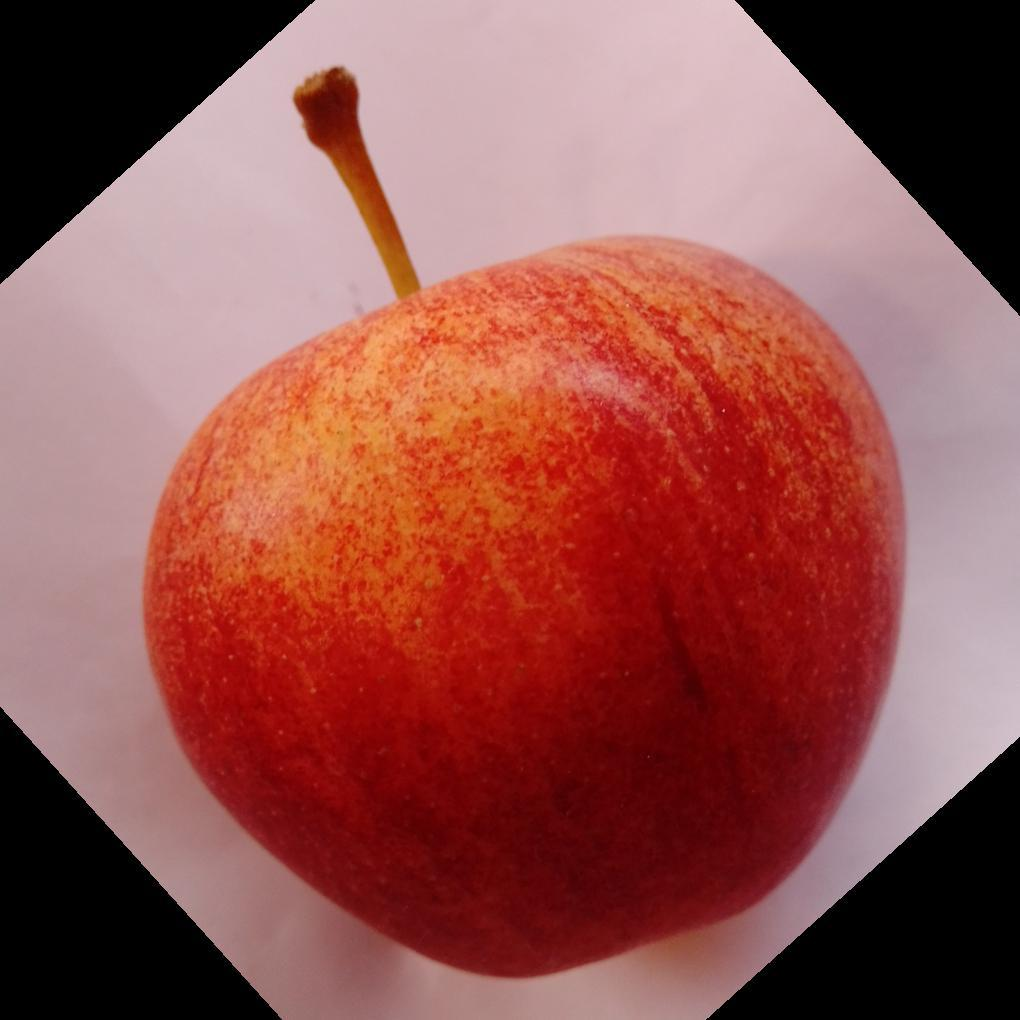FreshGuava: (138, 235, 908, 985)
